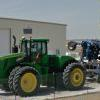Tractor: (3, 28, 89, 94)
